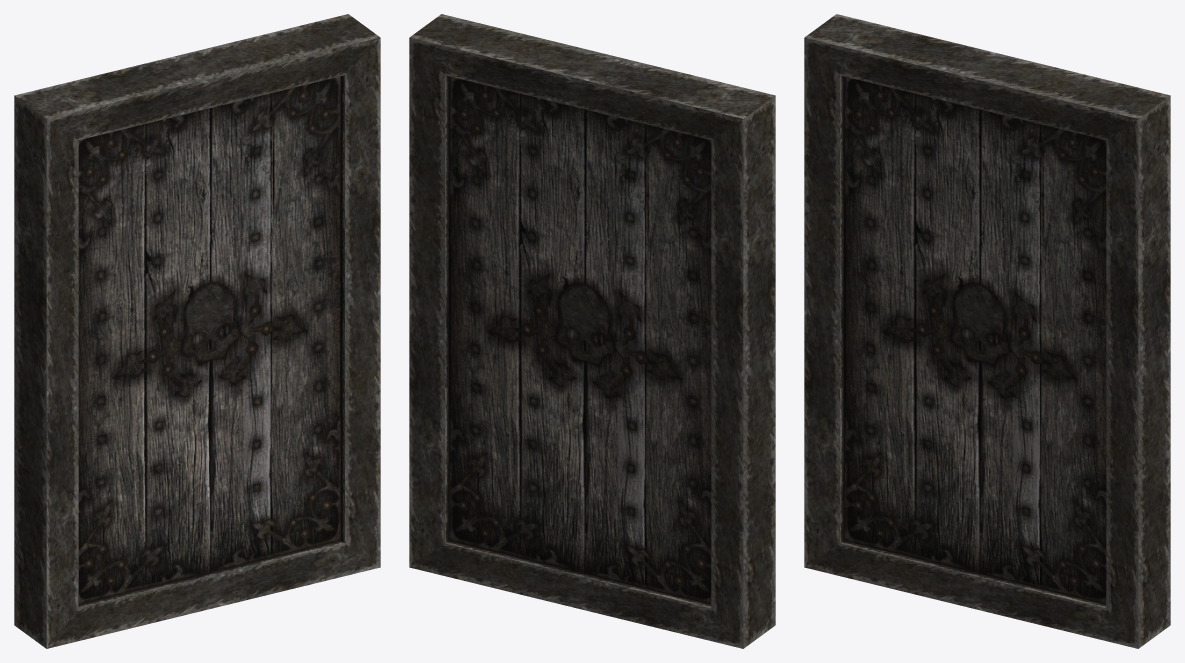
The model's file is safety_normal_vert.dae.
3 views of the same model, side by side, from view 1: azimuth 30°, elevation 25°; view 2: azimuth 150°, elevation 25°; view 3: azimuth 330°, elevation 25° (orthographic).
Parts seen in each view (by area): view 1: pCube1; view 2: pCube1; view 3: pCube1.
Part boxes in pixels (left/top/right/bottom): pCube1: left=14, top=14, right=380, bottom=648; pCube1: left=409, top=14, right=775, bottom=648; pCube1: left=804, top=14, right=1170, bottom=648.
Size of the model in its own units: 1.8 by 2.73 by 0.3.
